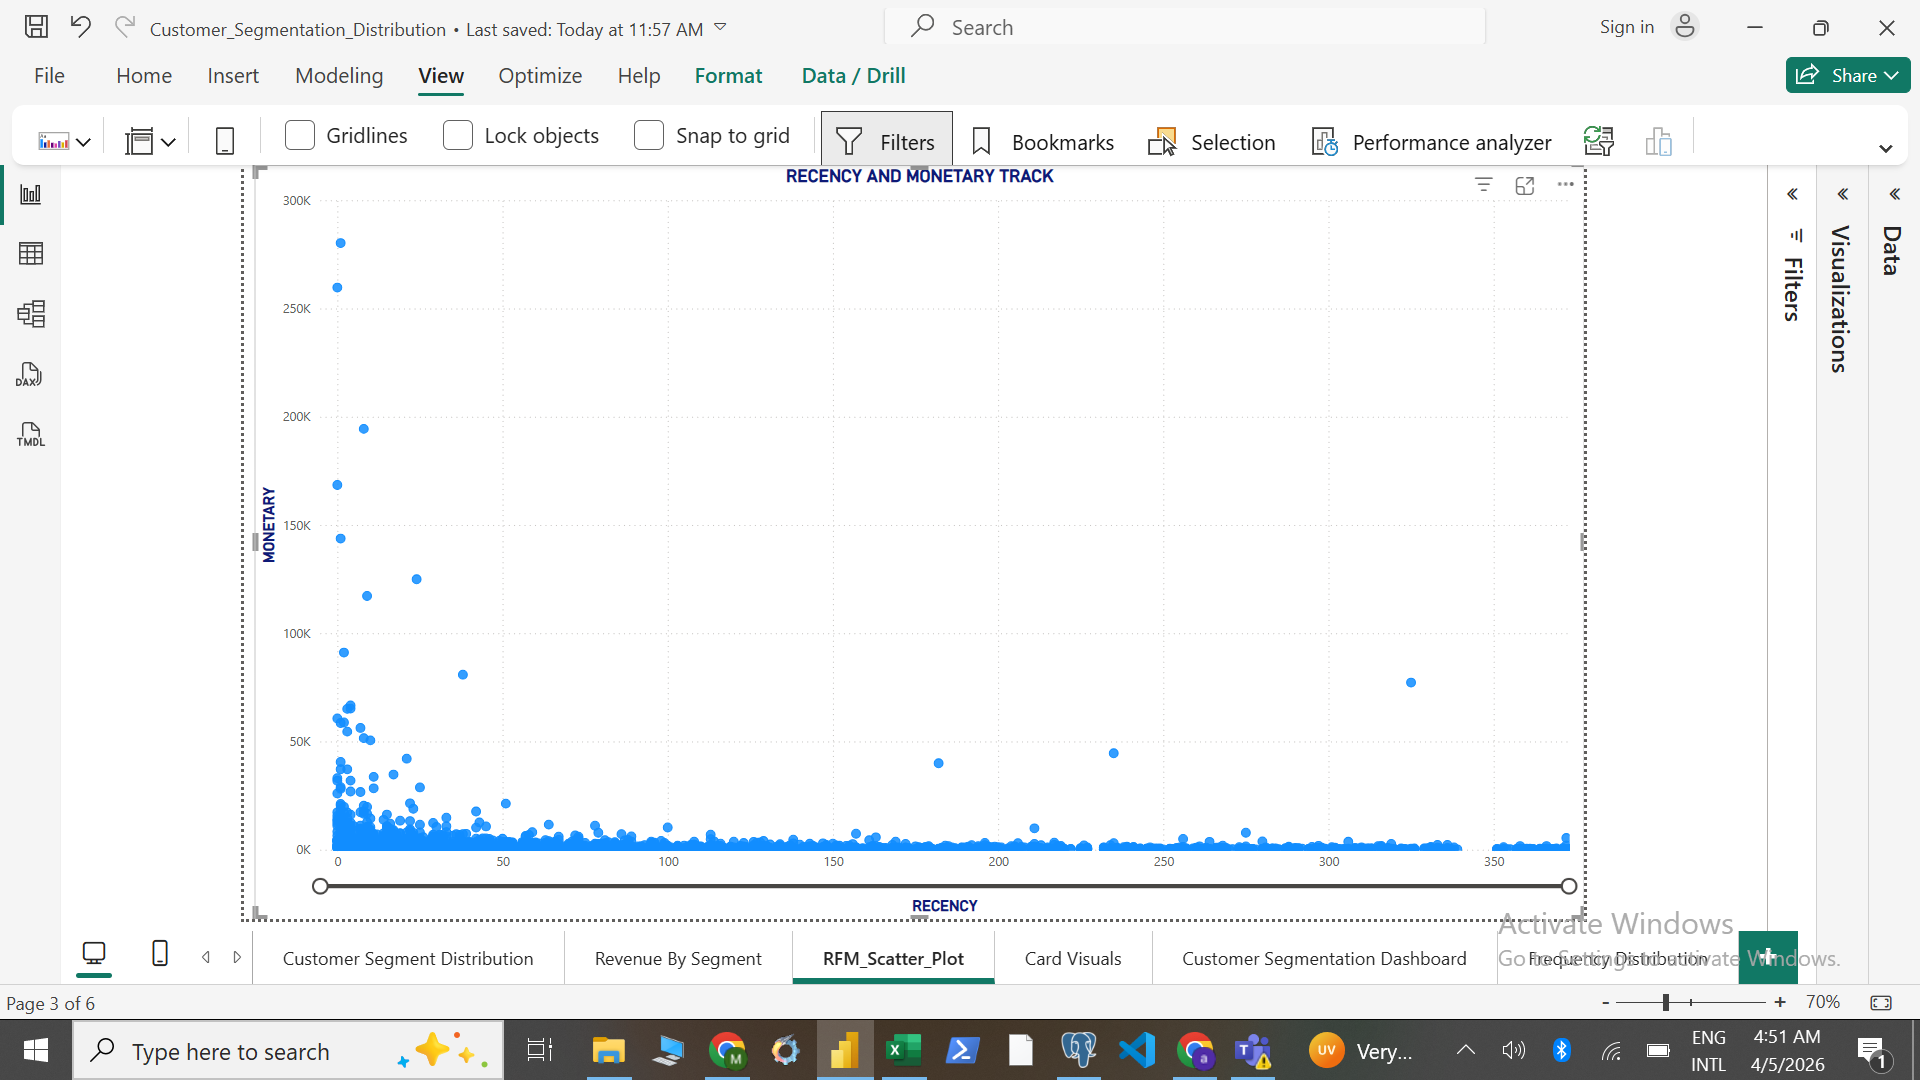

What the dashboard file says about the page in this screenshot:
{"tool":"powerbi","page":{"name":"RFM_Scatter_Plot","canvas":[1280,720],"ordinal":2},"visuals":[{"type":"scatterChart","title":"RECENCY AND MONETARY TRACK","fields":{"X":["customer_segmentation.recency"],"Y":["customer_segmentation.monetary"]},"box":[9.4,0,653.9,514],"z":0}]}

Visuals, with their boxes on the page's 1280x720 design canvas (x1, y1, x2, y2). These are canvas units, not pixel positions in the 1920x1080 screenshot, which may show the page scaled, cropped or inside an application window:
"RECENCY AND MONETARY TRACK" scatterChart: (x1=9, y1=0, x2=663, y2=514)
